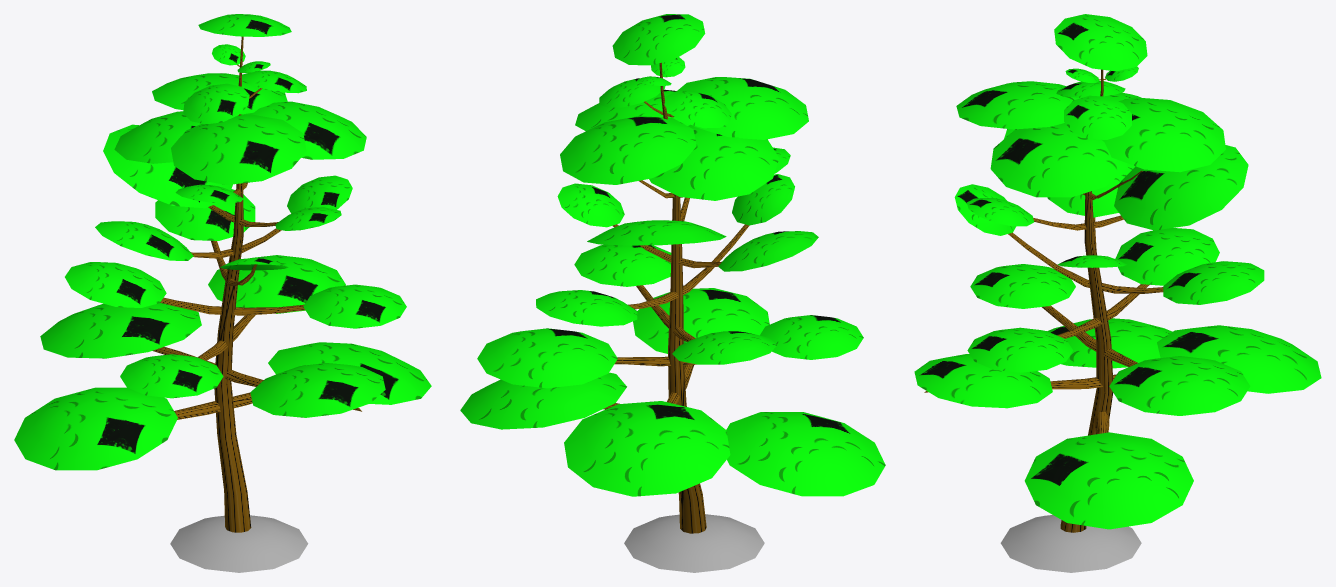
File: tree.fbx
3 views of the same model, side by side, from view 1: azimuth 30°, elevation 25°; view 2: azimuth 150°, elevation 25°; view 3: azimuth 270°, elevation 25° (orthographic). The views are drawn at different scales.
Parts seen in each view (by area): view 1: blad, stam, pCylinder6; view 2: blad, stam, pCylinder6; view 3: blad, stam, pCylinder6.
Part boxes in pixels (x1=…): blad: x1=14, y1=14, x2=431, y2=470; stam: x1=152, y1=36, x2=361, y2=532; pCylinder6: x1=170, y1=515, x2=308, y2=572; blad: x1=460, y1=14, x2=885, y2=496; stam: x1=603, y1=62, x2=848, y2=533; pCylinder6: x1=624, y1=514, x2=764, y2=572; blad: x1=914, y1=14, x2=1321, y2=529; stam: x1=924, y1=69, x2=1163, y2=532; pCylinder6: x1=1000, y1=515, x2=1141, y2=572.
Bounding box in the file's own units: 330 × 411 × 288.
3 materials, 2 textured.
